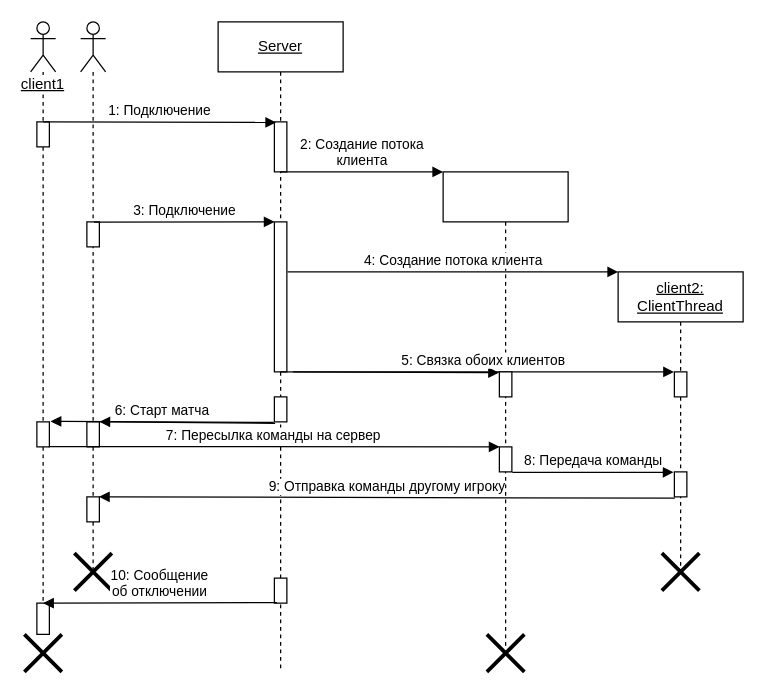
Some shapes in this 765 by 695 pixel diagram are drawn without their labels. The shapes that lost their labels are listed below. From the top down, each one's box as (x1, y1, x2, y2) in pixels, then its label:
(79, 21, 106, 572): client2
(442, 171, 568, 647): client1: ClientThread
